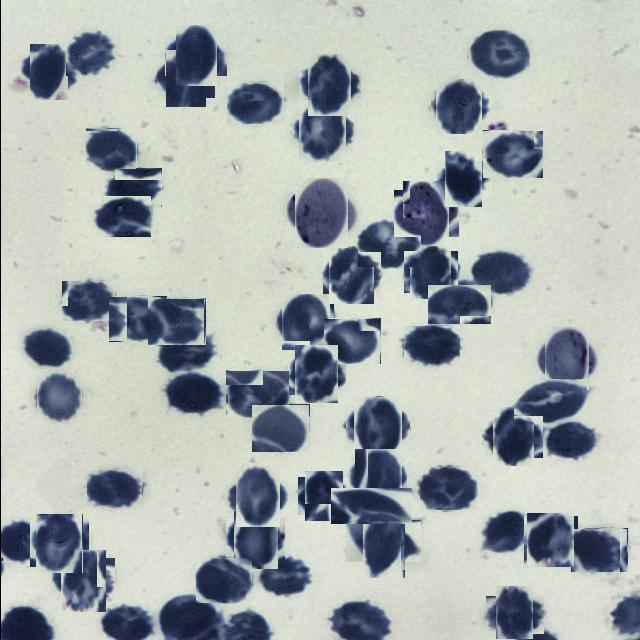red blood cell: (354, 512, 412, 570), (466, 28, 528, 79), (513, 379, 586, 422), (348, 399, 404, 455), (357, 218, 420, 267), (225, 370, 289, 418), (294, 104, 350, 158), (31, 516, 86, 570), (482, 130, 543, 178), (302, 58, 356, 112), (56, 554, 110, 608), (330, 488, 411, 524), (230, 470, 284, 522), (251, 404, 309, 452), (278, 296, 331, 348), (146, 298, 204, 345), (325, 249, 377, 301), (351, 452, 403, 504), (108, 296, 166, 342), (432, 80, 483, 132), (229, 514, 280, 566), (524, 515, 576, 566), (170, 29, 220, 82), (323, 318, 380, 364), (195, 557, 252, 603), (290, 348, 341, 399), (426, 284, 491, 324), (471, 251, 531, 294), (487, 412, 538, 462), (570, 528, 627, 572), (34, 372, 84, 422), (226, 81, 284, 124), (419, 468, 475, 512), (160, 54, 210, 103), (164, 373, 222, 415), (490, 592, 538, 640), (406, 248, 454, 296), (24, 48, 72, 96), (94, 196, 150, 237), (403, 326, 459, 366), (104, 168, 161, 207), (61, 280, 115, 321), (256, 558, 311, 598), (65, 32, 115, 76), (86, 469, 142, 508), (439, 156, 486, 202), (85, 128, 136, 170), (157, 336, 213, 374), (481, 512, 530, 554), (22, 328, 72, 368), (300, 474, 344, 518), (545, 424, 594, 459)
ring: (290, 182, 352, 244), (398, 186, 453, 242), (539, 331, 593, 386)
